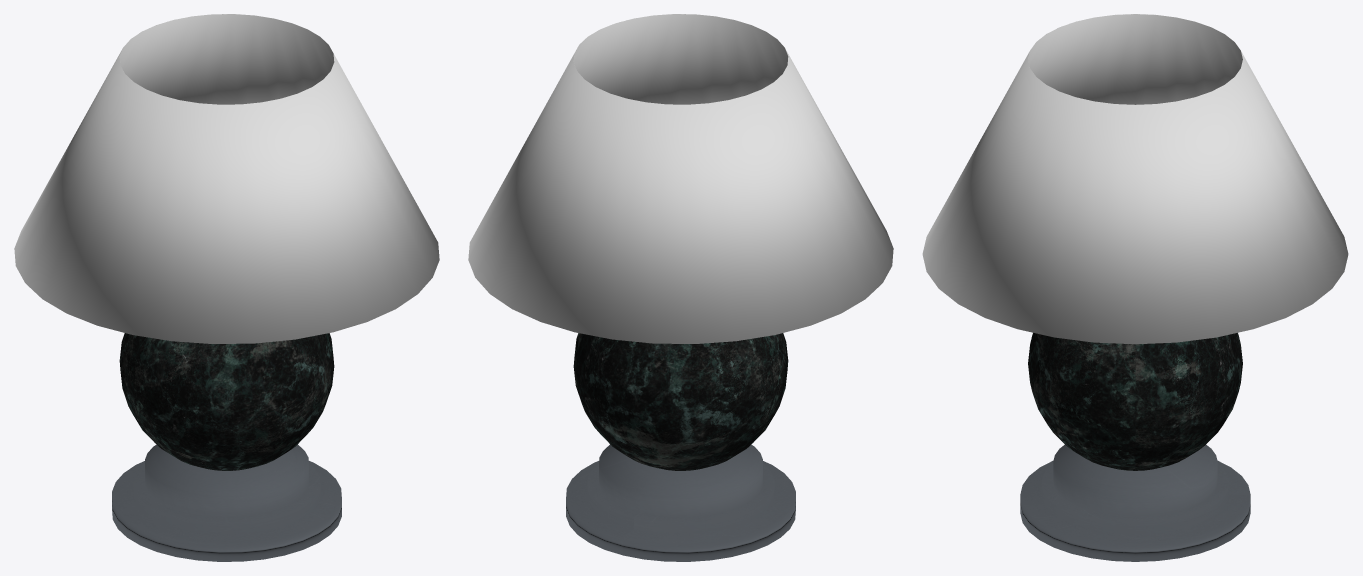
Rendered from KidsRoomLamp.fbx.
3 views of the same model, side by side, from view 1: azimuth 30°, elevation 25°; view 2: azimuth 150°, elevation 25°; view 3: azimuth 270°, elevation 25° (orthographic).
Parts seen in each view (by area): view 1: Shade, Sphere, Base; view 2: Shade, Sphere, Base; view 3: Shade, Sphere, Base.
Part boxes in pixels (x1=…): Shade: x1=14, y1=14, x2=439, y2=343; Sphere: x1=119, y1=333, x2=334, y2=470; Base: x1=112, y1=444, x2=341, y2=561; Shade: x1=468, y1=14, x2=893, y2=343; Sphere: x1=573, y1=333, x2=788, y2=470; Base: x1=566, y1=444, x2=795, y2=561; Shade: x1=922, y1=14, x2=1348, y2=344; Sphere: x1=1028, y1=333, x2=1242, y2=470; Base: x1=1020, y1=444, x2=1250, y2=561.
Size of the model in its own units: 396 by 466 by 396.
4 materials, 2 textured.
